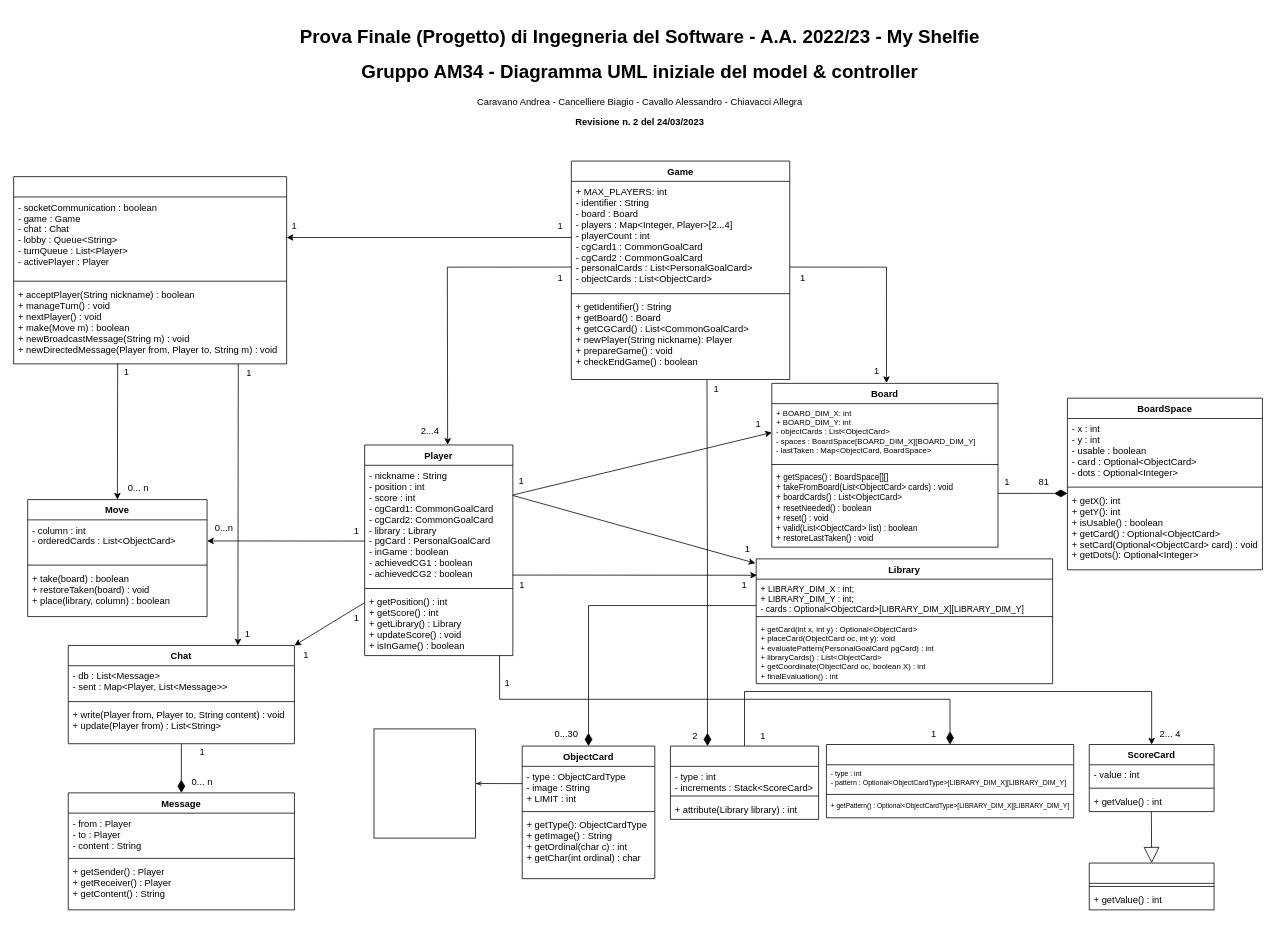
This 1276x925 diagram has some shape labels left out. Each missing label, with the box of its shape:
<< enumeration >> ObjectCardType CATS BOOKS GAMES FRAMES TROPHIES PLANTS: (373, 728, 475, 838)
CommonGoalCard: (670, 745, 819, 819)
EndGameCard: (1088, 862, 1214, 910)
GameController: (13, 176, 287, 364)
PersonalGoalCard: (826, 744, 1074, 818)
